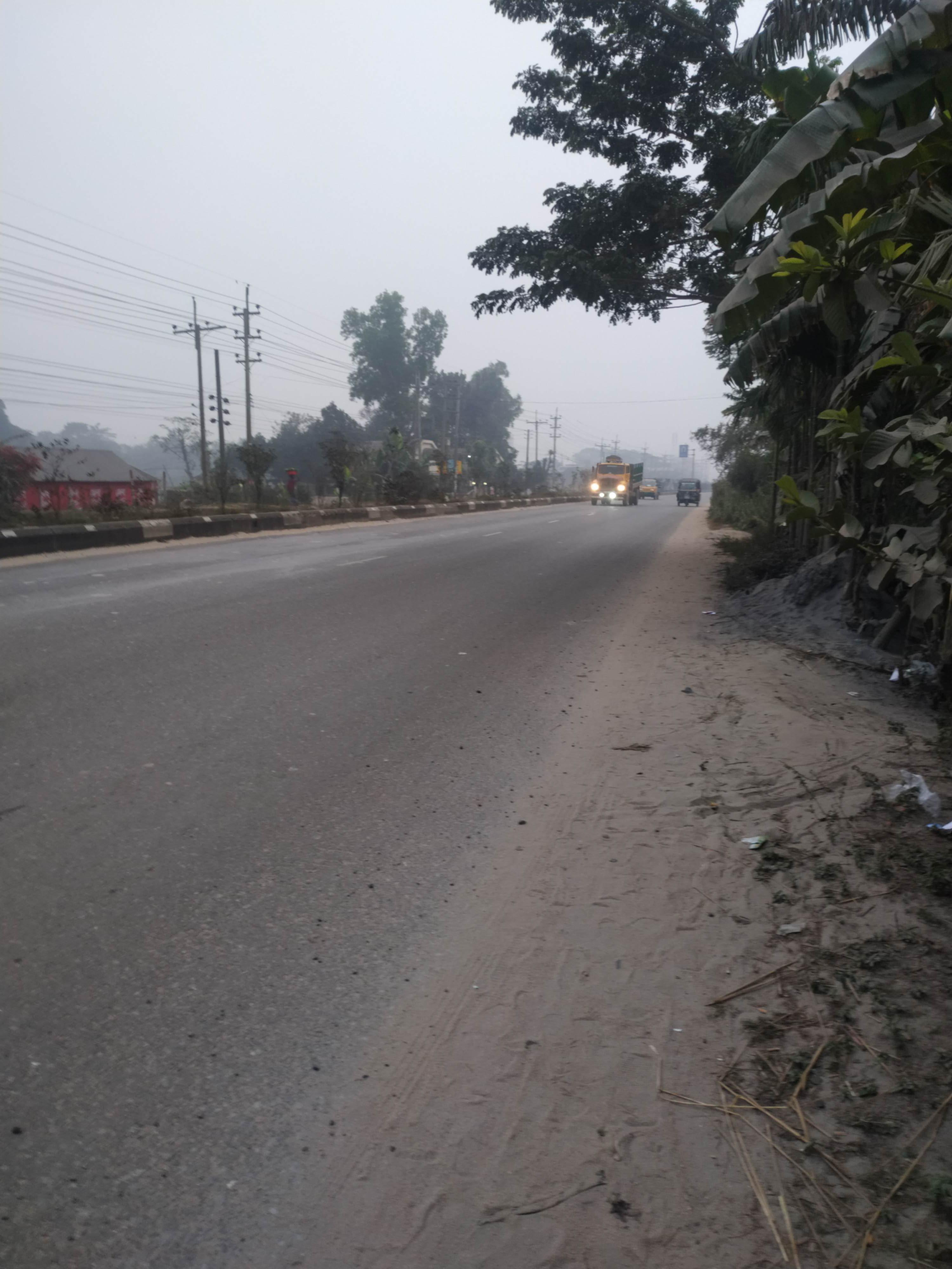Truck: (578, 453, 648, 517)
